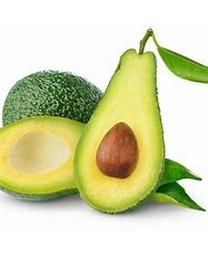avocado: (71, 47, 167, 216), (4, 70, 121, 163), (1, 114, 108, 203)
